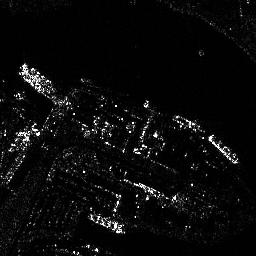ship: (18, 63, 58, 95), (207, 132, 239, 164), (86, 213, 125, 236), (168, 114, 206, 134)
